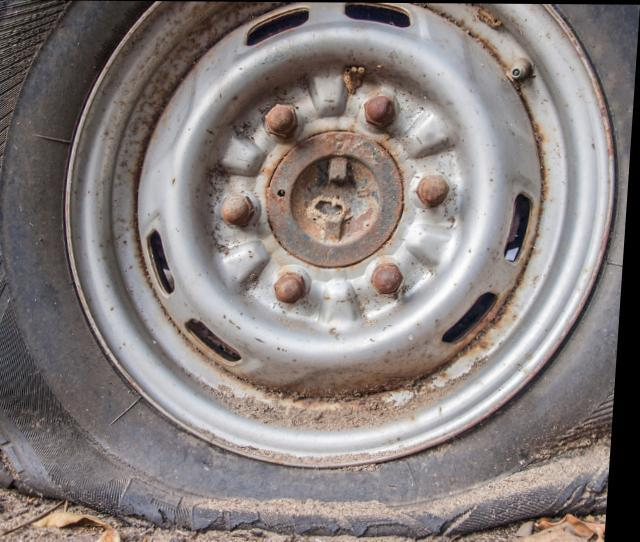tire flat: (0, 0, 640, 540)
